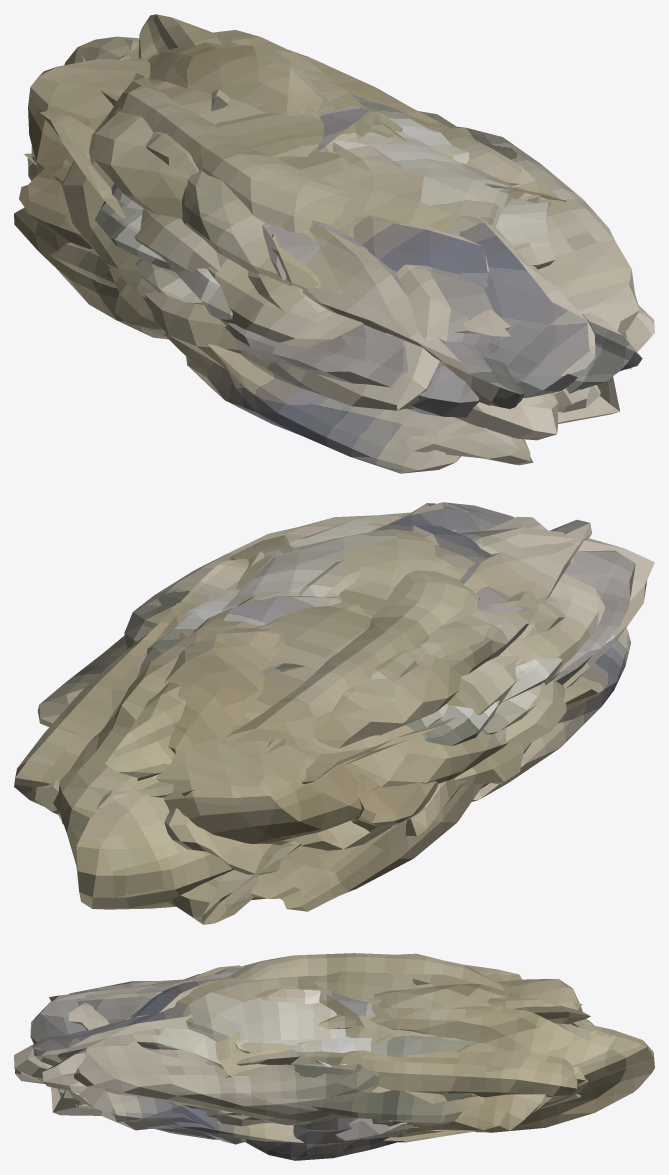
File: roccia.obj
3 views of the same model, one above another, from view 1: azimuth 30°, elevation 25°; view 2: azimuth 150°, elevation 25°; view 3: azimuth 270°, elevation 25° (orthographic). The views are drawn at different scales.
Visible parts, largest first — view 1: Cube; view 2: Cube; view 3: Cube.
Boxes of the visible parts, x1,y1,x2,y2 form: Cube: [14, 14, 654, 473]; Cube: [14, 502, 654, 924]; Cube: [14, 953, 654, 1160].
Bounding box in the file's own units: 2.27 × 1.22 × 4.64.
